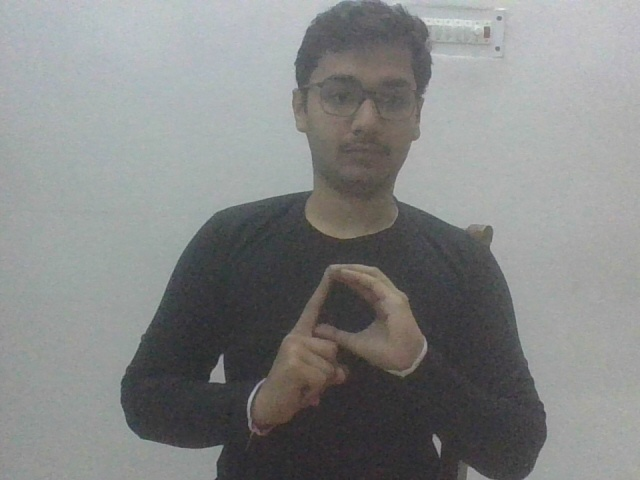D: (255, 259, 426, 436)
